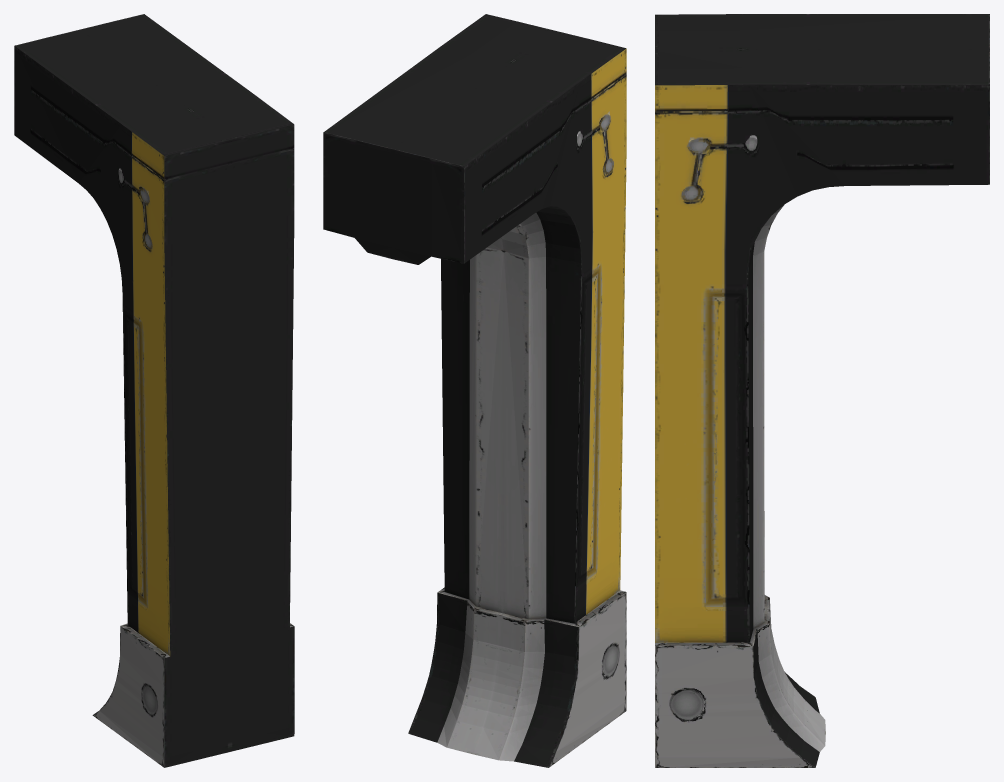
The model's file is arch01.dae.
3 renders of one model, left to right at view 1: azimuth 30°, elevation 25°; view 2: azimuth 150°, elevation 25°; view 3: azimuth 270°, elevation 25°, orthographic. The views are drawn at different scales.
Parts seen in each view (by area): view 1: polySurface12; view 2: polySurface12; view 3: polySurface12.
Boxes of the visible parts, bbox=[...] form: polySurface12: bbox=[14, 14, 294, 767]; polySurface12: bbox=[323, 14, 626, 767]; polySurface12: bbox=[655, 14, 989, 767].
Size of the model in its own units: 1.01 by 4.5 by 2.
Materials: 1 (1 with a texture image).
